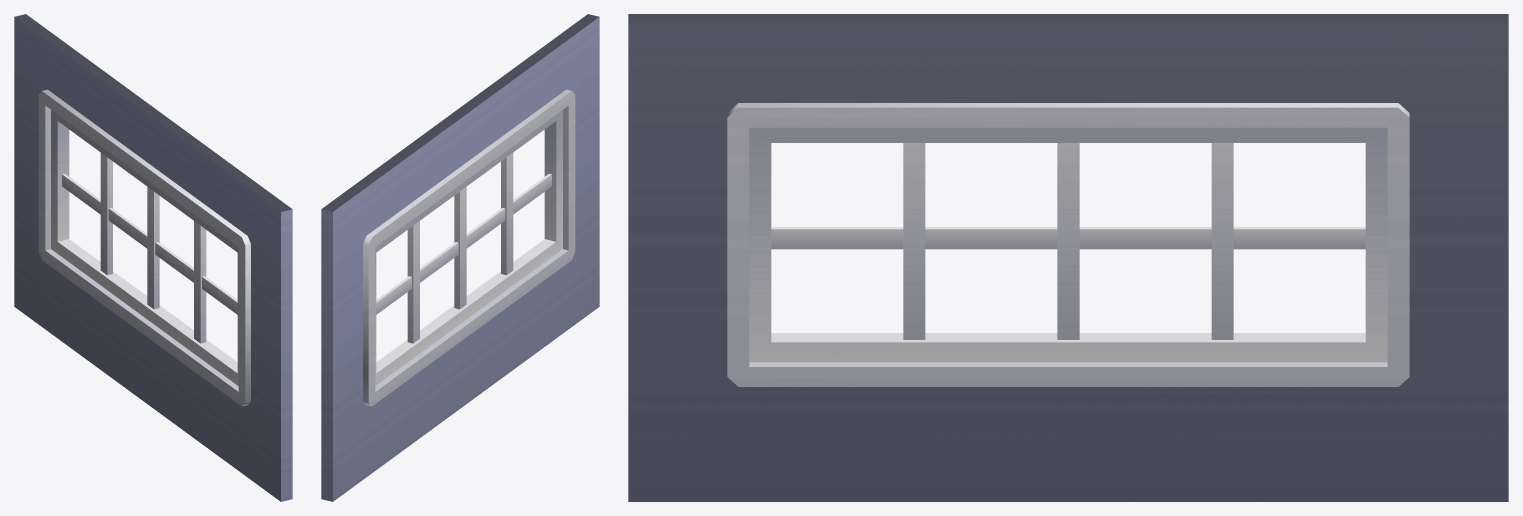
The model's file is windows.glb.
The picture shows the model from 3 angles, left to right: view 1: azimuth 30°, elevation 25°; view 2: azimuth 150°, elevation 25°; view 3: azimuth 270°, elevation 25°; orthographic projection. The views are drawn at different scales.
Visible parts, largest first — view 1: wall-window-wide-square-detailed; view 2: wall-window-wide-square-detailed; view 3: wall-window-wide-square-detailed.
Part boxes in pixels (x1,y1,x2,y2): wall-window-wide-square-detailed: [14, 14, 292, 501]; wall-window-wide-square-detailed: [321, 14, 599, 501]; wall-window-wide-square-detailed: [628, 14, 1508, 501].
Size of the model in its own units: 0.2 by 2.4 by 4.
Materials: 1 (1 with a texture image).
